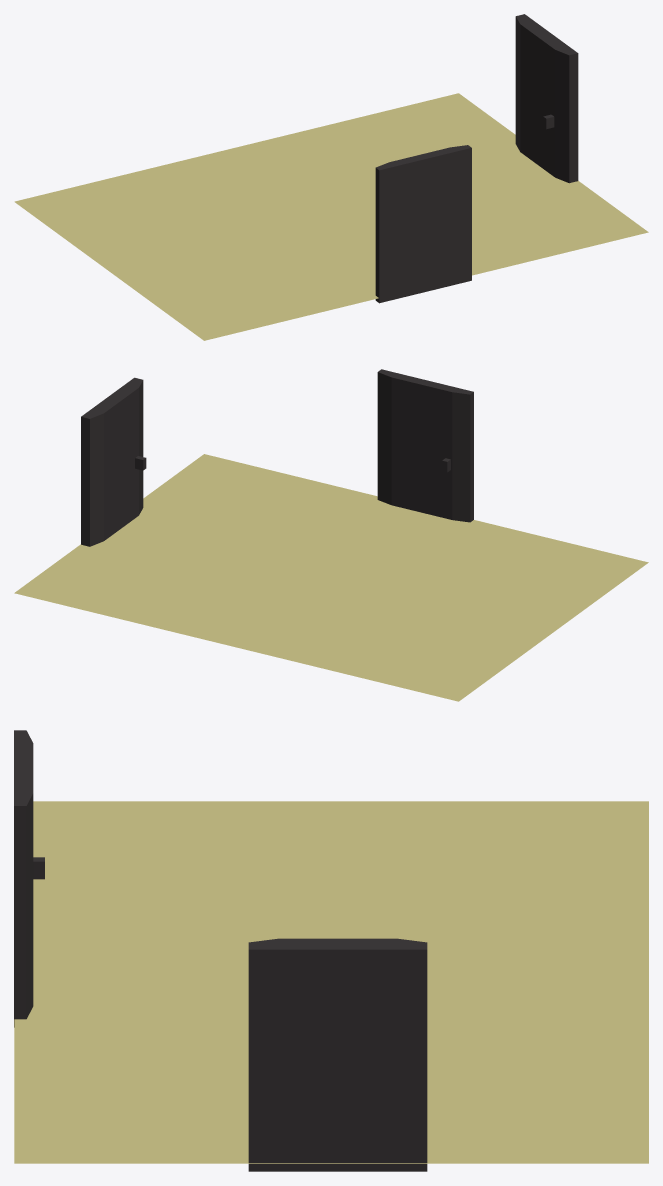
The model's file is ByakkoStage4.3.fbx.
3 renders of one model, top to bottom at view 1: azimuth 30°, elevation 25°; view 2: azimuth 150°, elevation 25°; view 3: azimuth 270°, elevation 25°, orthographic. The views are drawn at different scales.
Visible parts, largest first — view 1: Plane.017, Plane.018; view 2: Plane.017, Plane.018; view 3: Plane.017, Plane.018.
Part boxes in pixels (bbox=[...]): Plane.017: bbox=[14, 93, 648, 340]; Plane.018: bbox=[375, 14, 578, 303]; Plane.017: bbox=[14, 454, 648, 701]; Plane.018: bbox=[81, 369, 473, 546]; Plane.017: bbox=[14, 801, 648, 1163]; Plane.018: bbox=[14, 730, 427, 1171].
Size of the model in its own units: 34.3 by 9.8 by 25.42.
